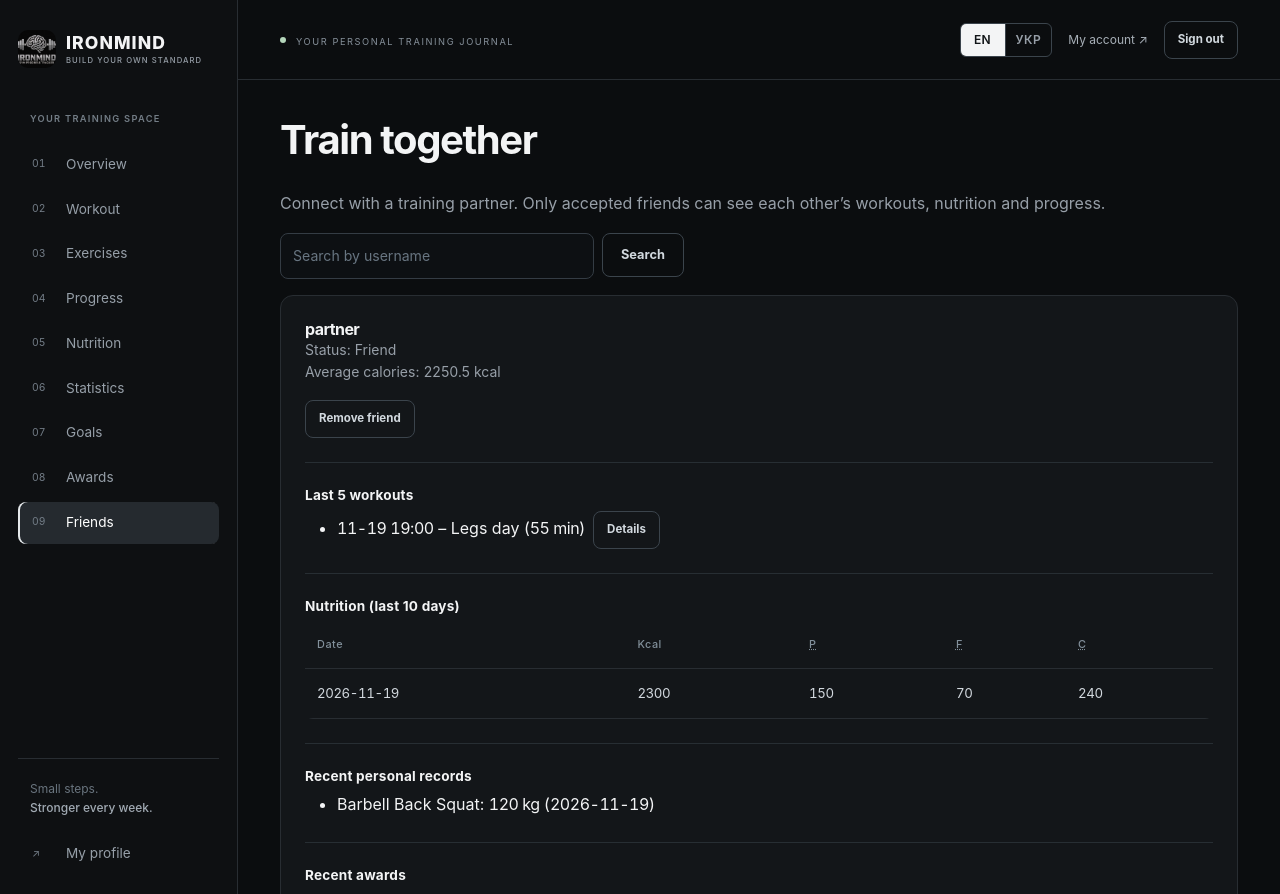
Test: friends › shows what a friend shares and removes the connection after confirmation
Expected: the text "Status: Friend" is shown, x1=305 y1=341 x2=396 y2=358
Expected: the text "2250.5" is shown, x1=423 y1=363 x2=470 y2=380
Click the button "Remove friend" at [360, 419], box x1=305 y1=400 x2=415 y2=438
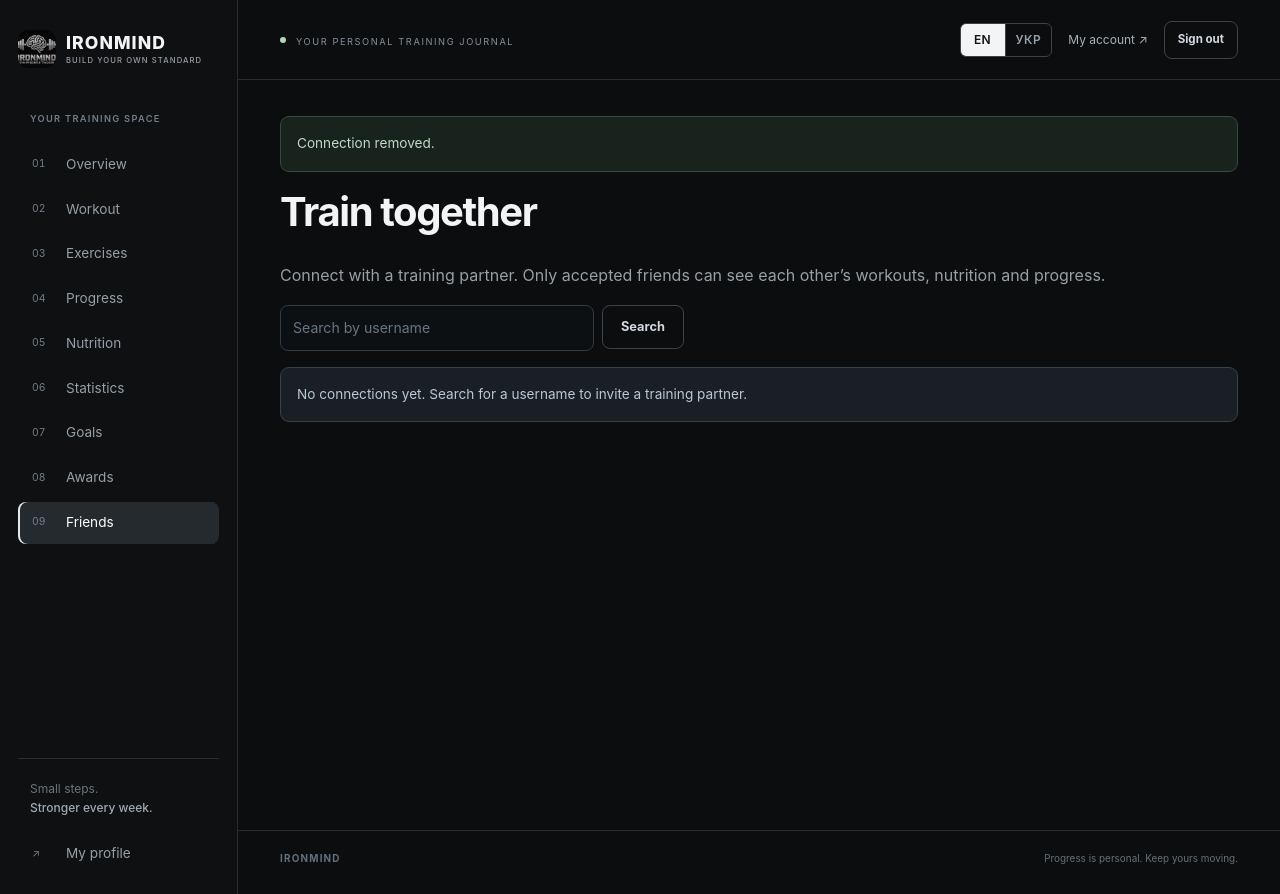
Result: the text "Connection removed." is shown at x1=280 y1=116 x2=1238 y2=172
Result: the text "No connections yet. Search for a username to invite a training partner." is shown at x1=280 y1=366 x2=1238 y2=422
